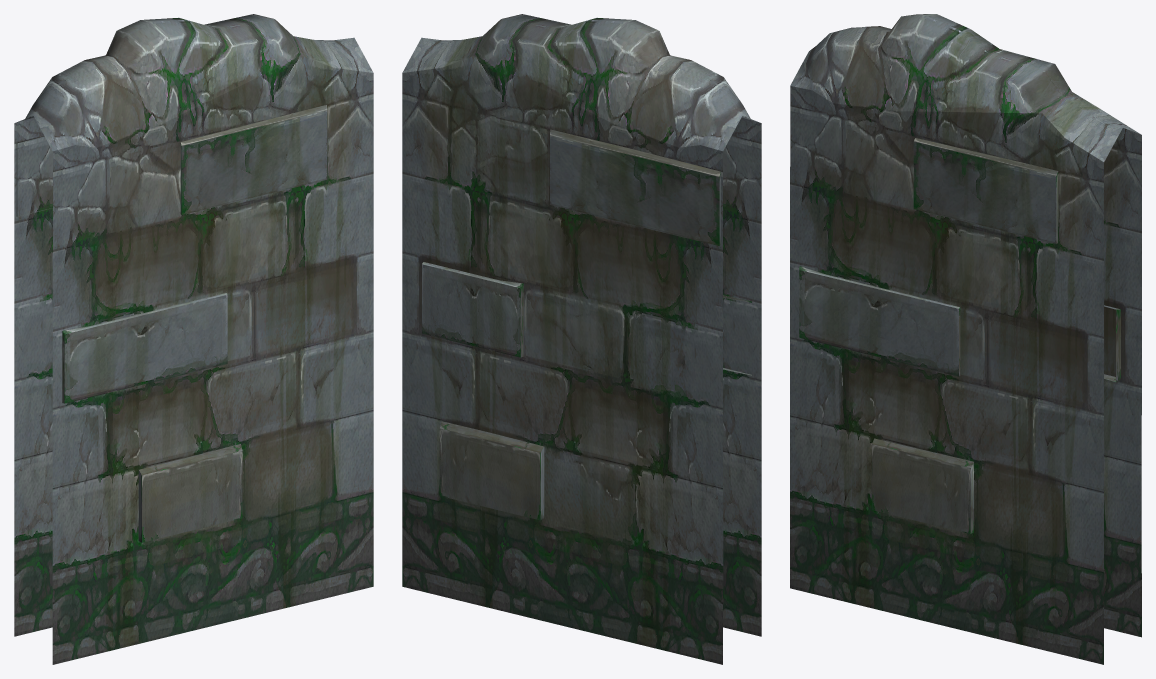
Rendered from stemple_wall_straight_02.fbx.
The picture shows the model from 3 angles, left to right: view 1: azimuth 30°, elevation 25°; view 2: azimuth 150°, elevation 25°; view 3: azimuth 330°, elevation 25°; orthographic projection. The views are drawn at different scales.
Visible parts, largest first — view 1: stemple_wall_straight_02-0; view 2: stemple_wall_straight_02-0; view 3: stemple_wall_straight_02-0.
Boxes of the visible parts, x1,y1,x2,y2 form: stemple_wall_straight_02-0: [14, 14, 373, 664]; stemple_wall_straight_02-0: [402, 14, 761, 664]; stemple_wall_straight_02-0: [790, 14, 1141, 664].
Size of the model in its own units: 4 by 7.15 by 0.9573.
